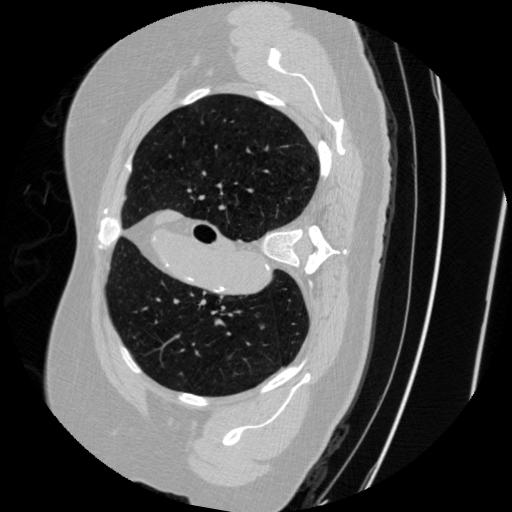nodule: (256, 318, 269, 331)
